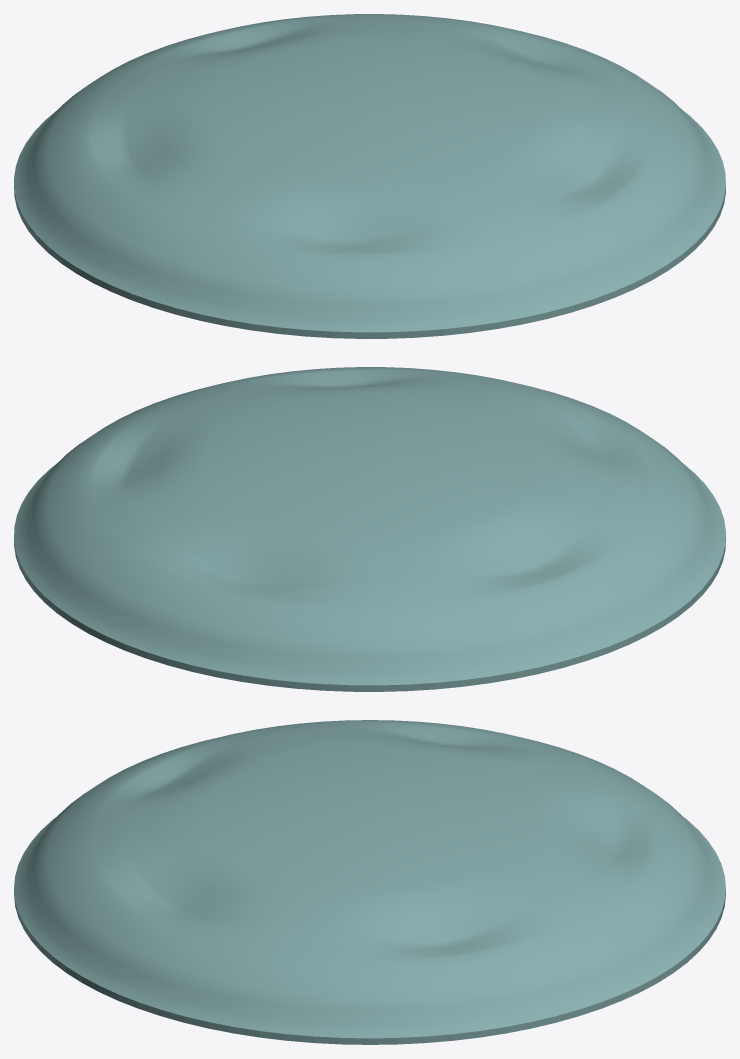
Rendered from shield (1).fbx.
3 views of the same model, one above another, from view 1: azimuth 30°, elevation 25°; view 2: azimuth 150°, elevation 25°; view 3: azimuth 270°, elevation 25° (orthographic).
Parts seen in each view (by area): view 1: pSphere4, pSphere6; view 2: pSphere4; view 3: pSphere4, pSphere6.
Boxes of the visible parts, x1,y1,x2,y2 form: pSphere4: [14, 14, 725, 338]; pSphere6: [14, 184, 725, 336]; pSphere4: [14, 367, 725, 691]; pSphere4: [14, 720, 725, 1044]; pSphere6: [16, 890, 725, 1043].
Bounding box in the file's own units: 2.03 × 0.2748 × 2.03.
